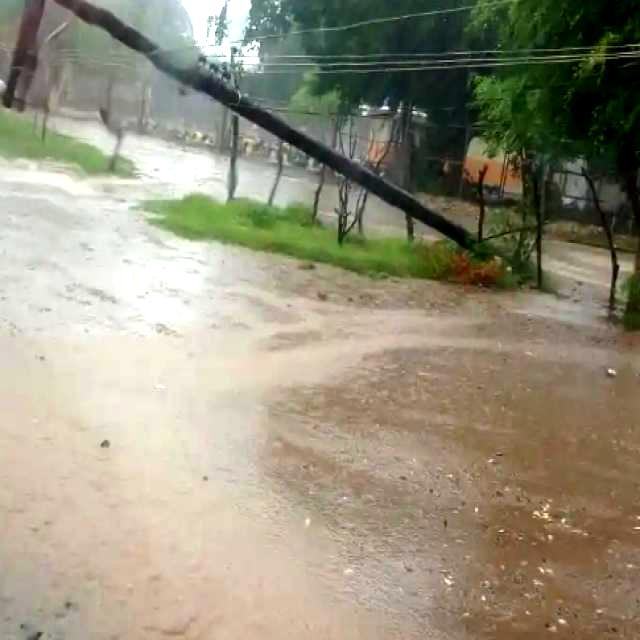Broken Pole: (52, 1, 490, 255)
